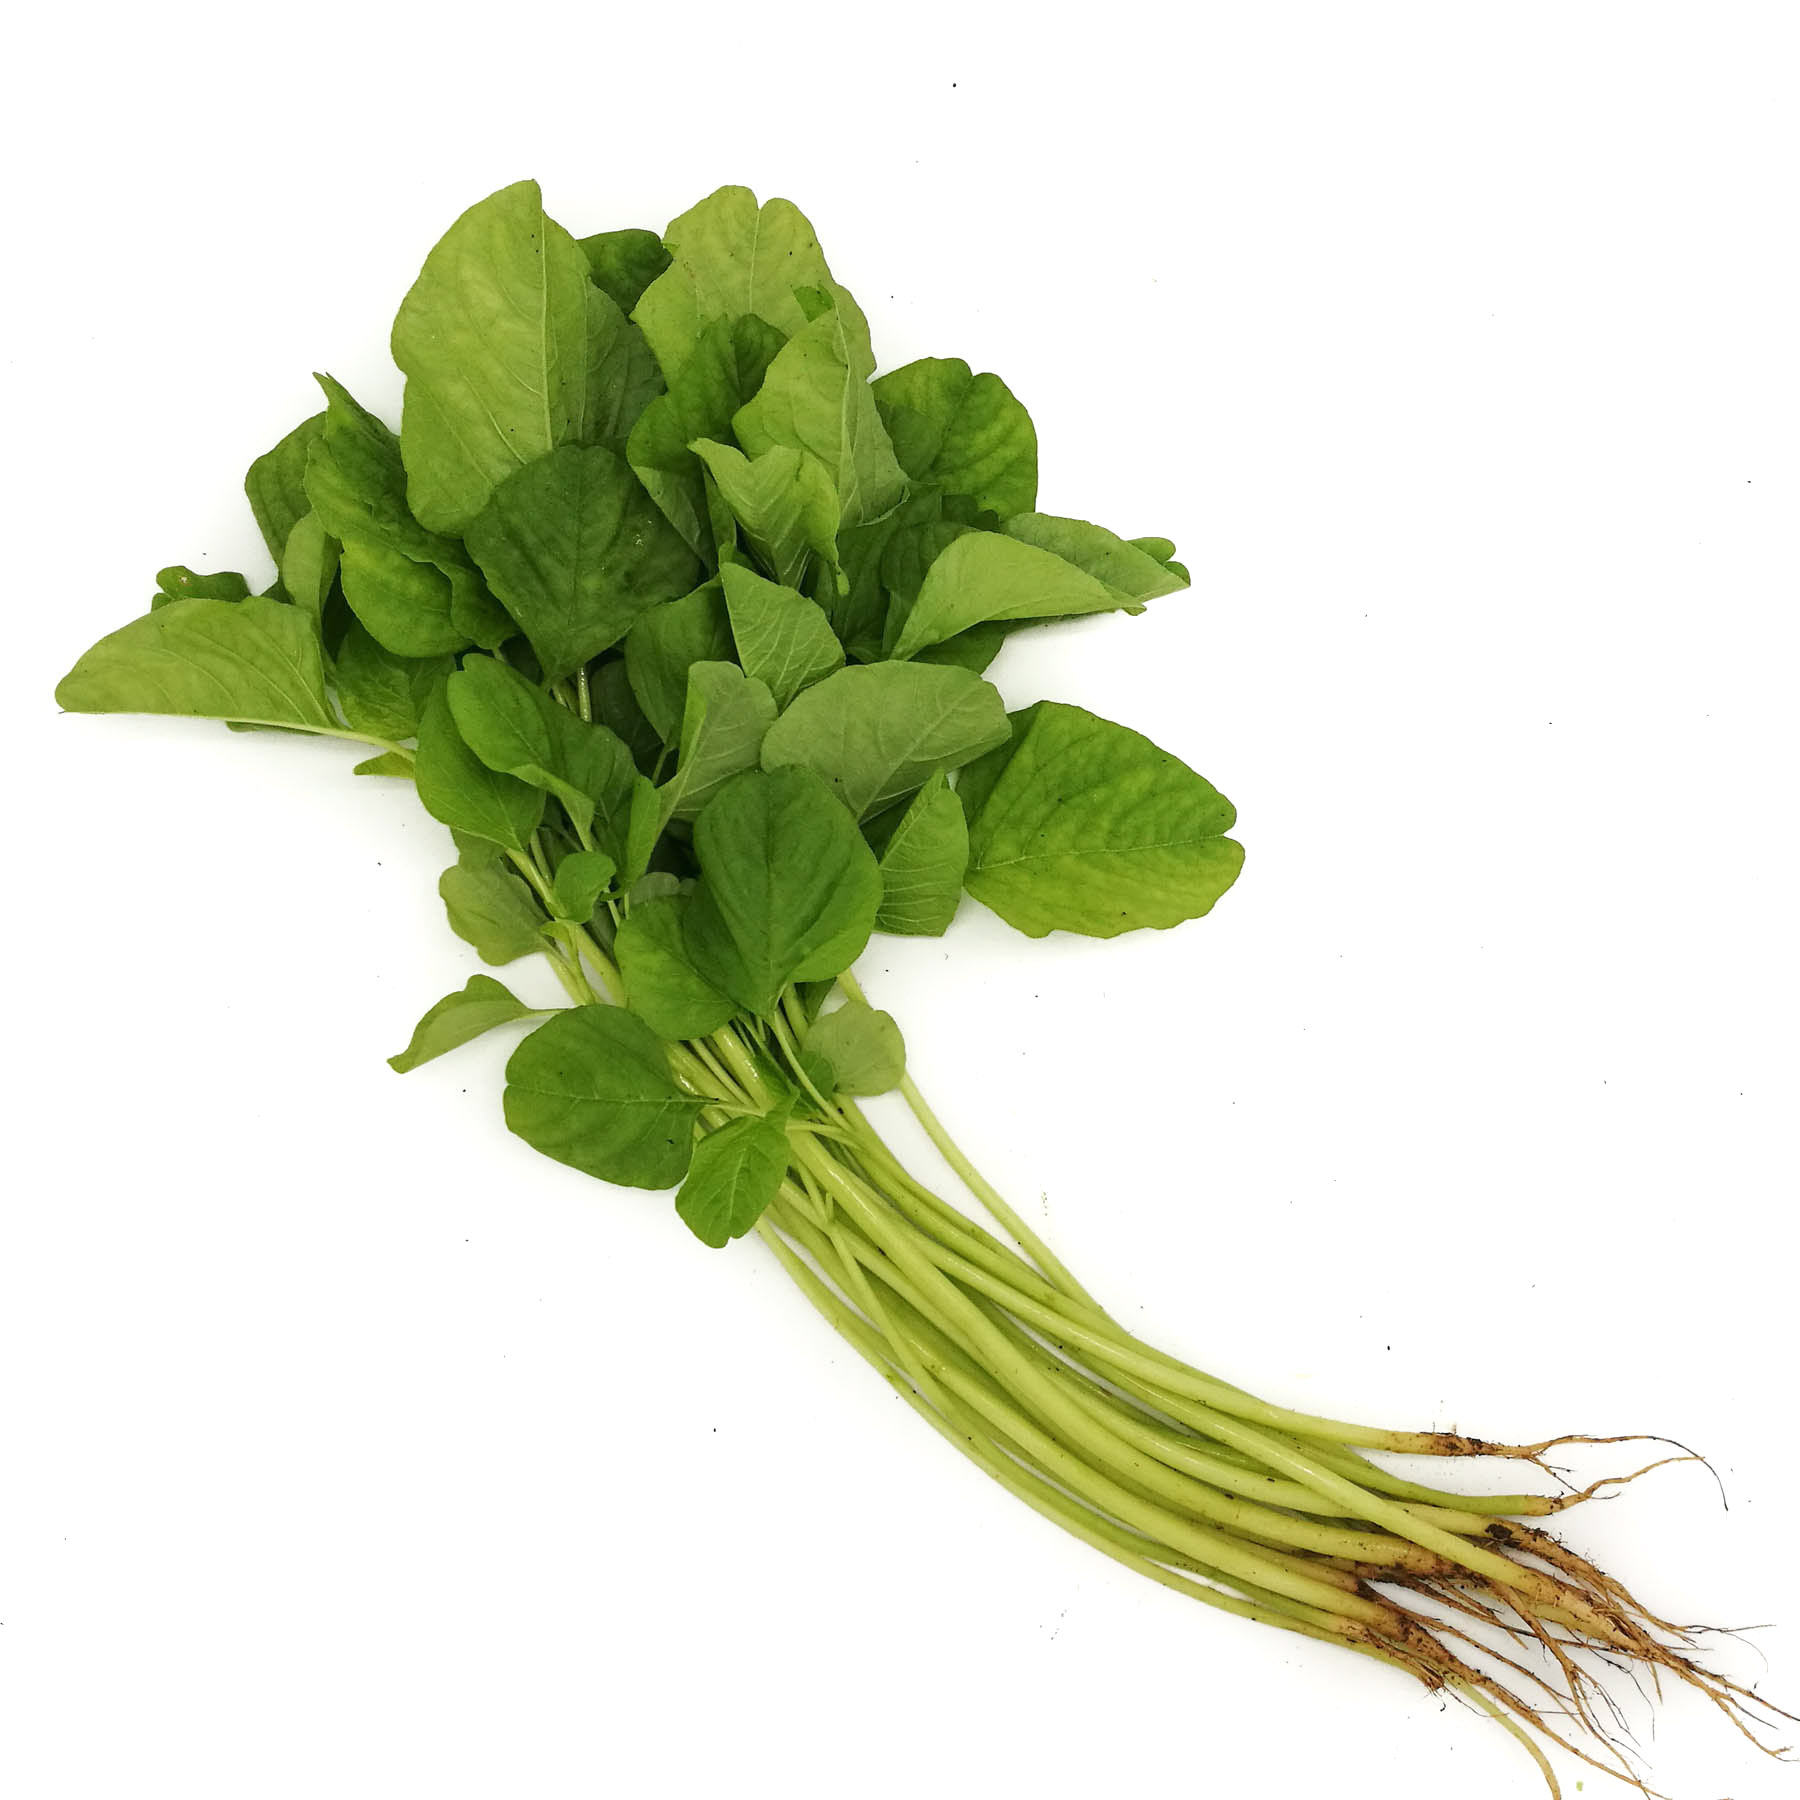Bayam: (23, 130, 1800, 1800)
